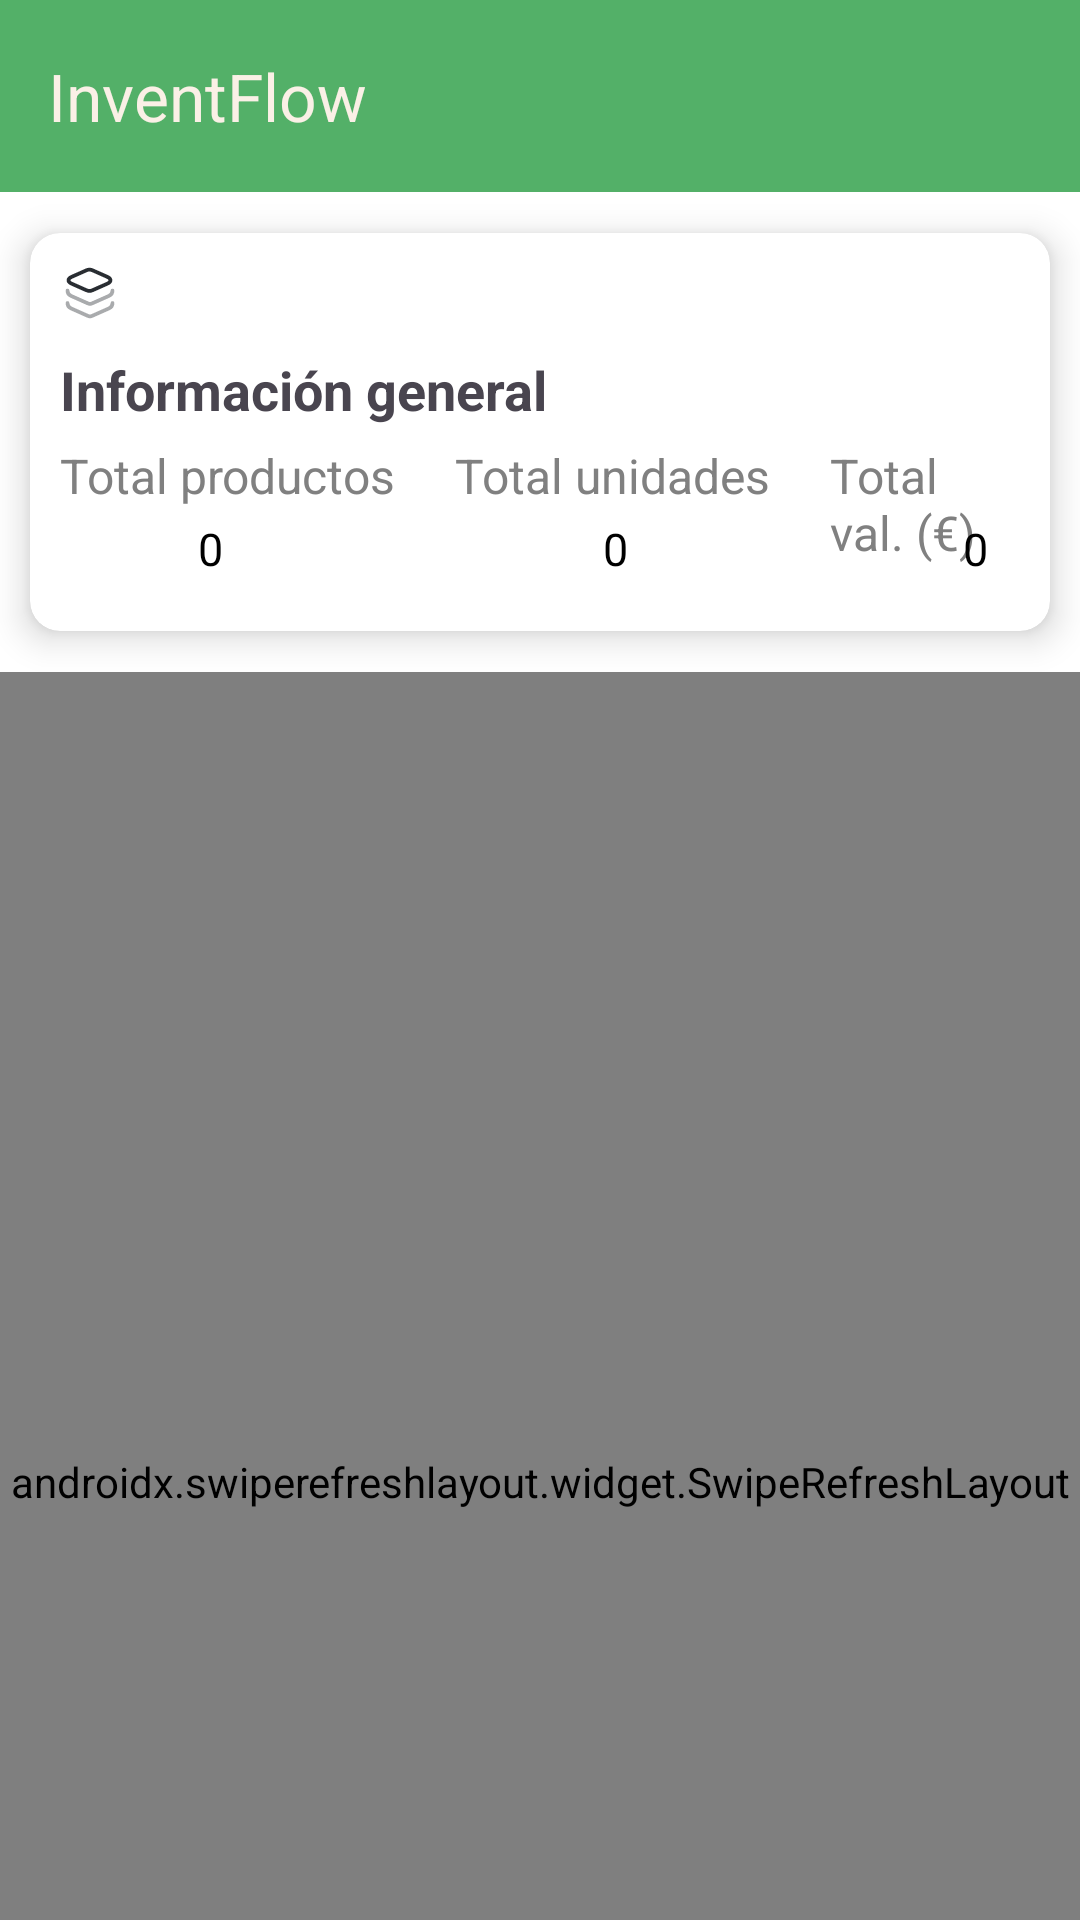

Icon click points for this 1080×1920 phone screenshot, format (x=x, y=y):
layout: (x=90, y=292)
